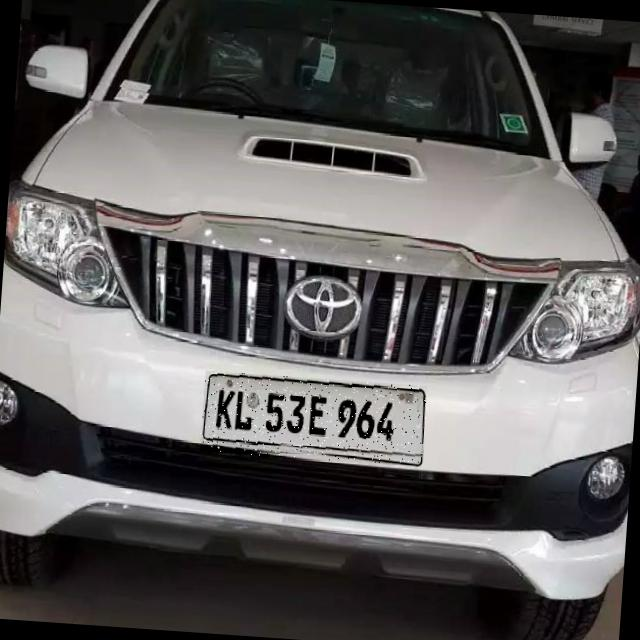Plate: (201, 372, 428, 468)
